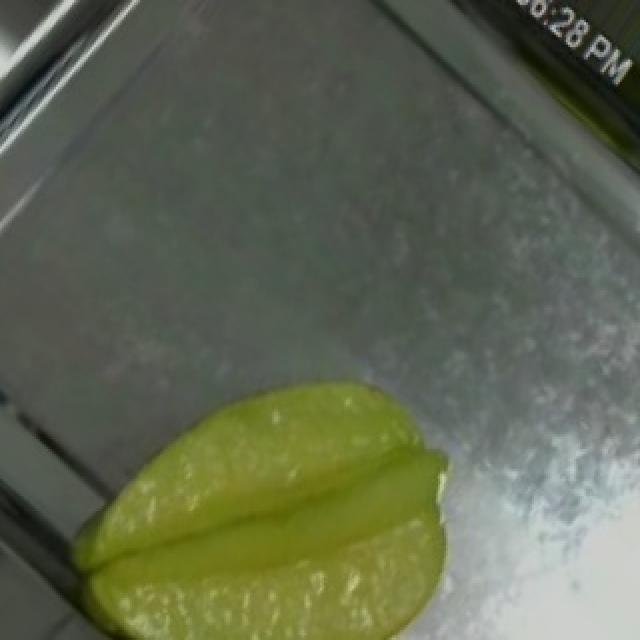fruit: (72, 332, 480, 640)
